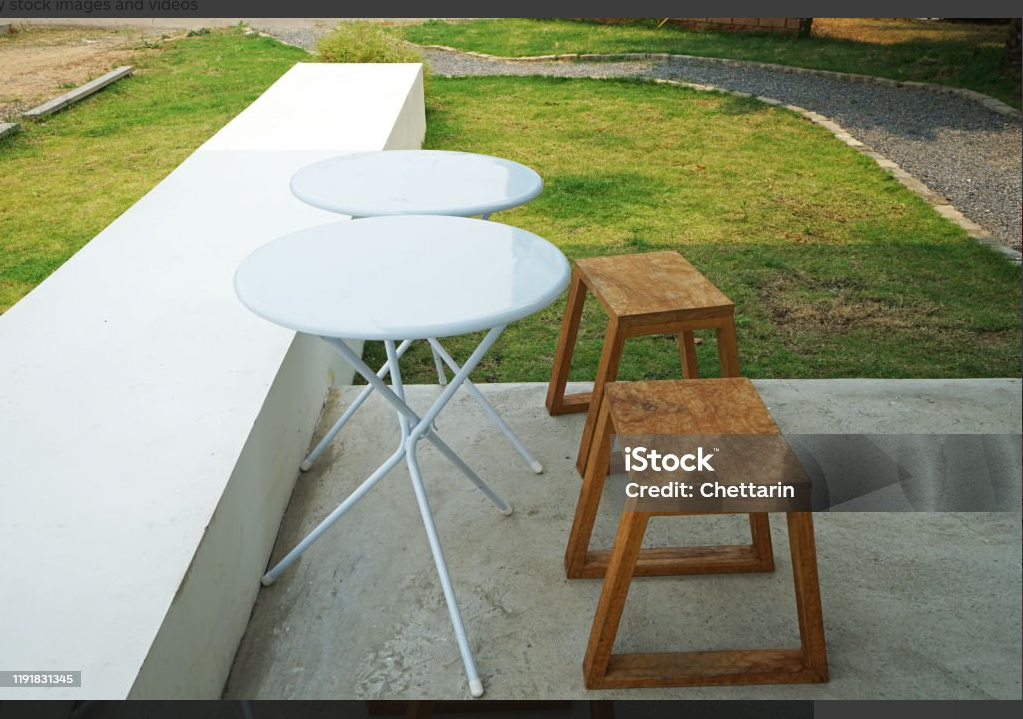obstacle: (239, 215, 550, 697), (570, 384, 840, 684), (556, 246, 736, 367), (302, 144, 543, 224)
